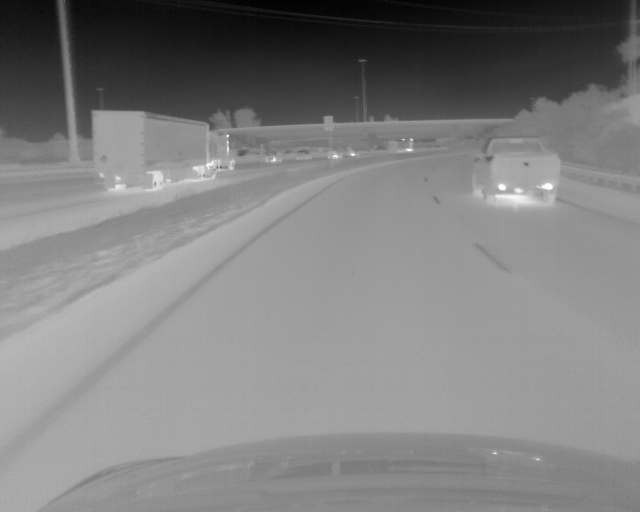car: (90, 109, 218, 189), (469, 135, 560, 205), (211, 133, 236, 170), (265, 153, 282, 163), (296, 151, 311, 160)
